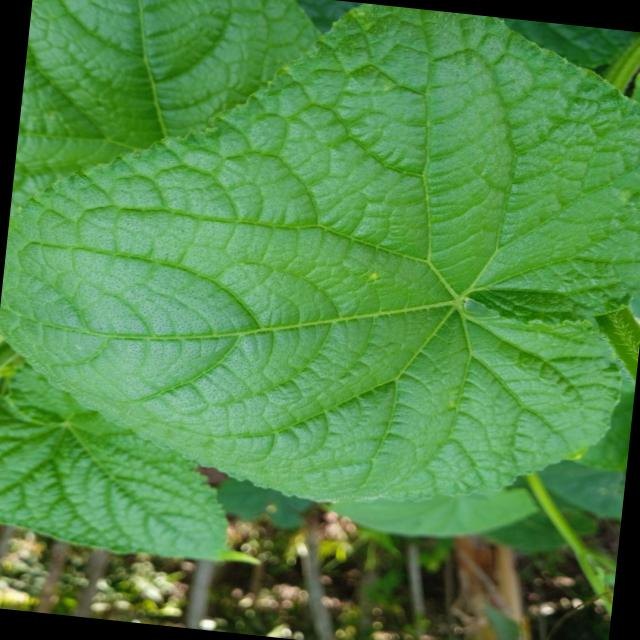cucumber_healthy: (0, 0, 640, 532), (12, 0, 329, 216), (0, 360, 291, 587)
